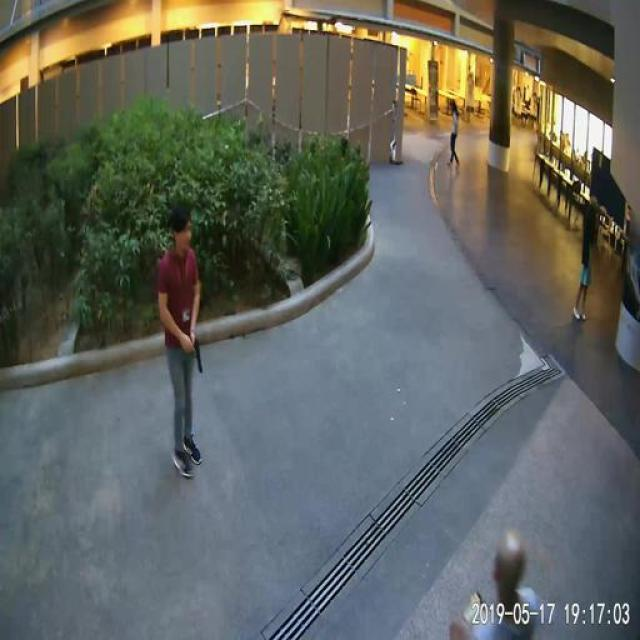Gun: (182, 328, 212, 387)
